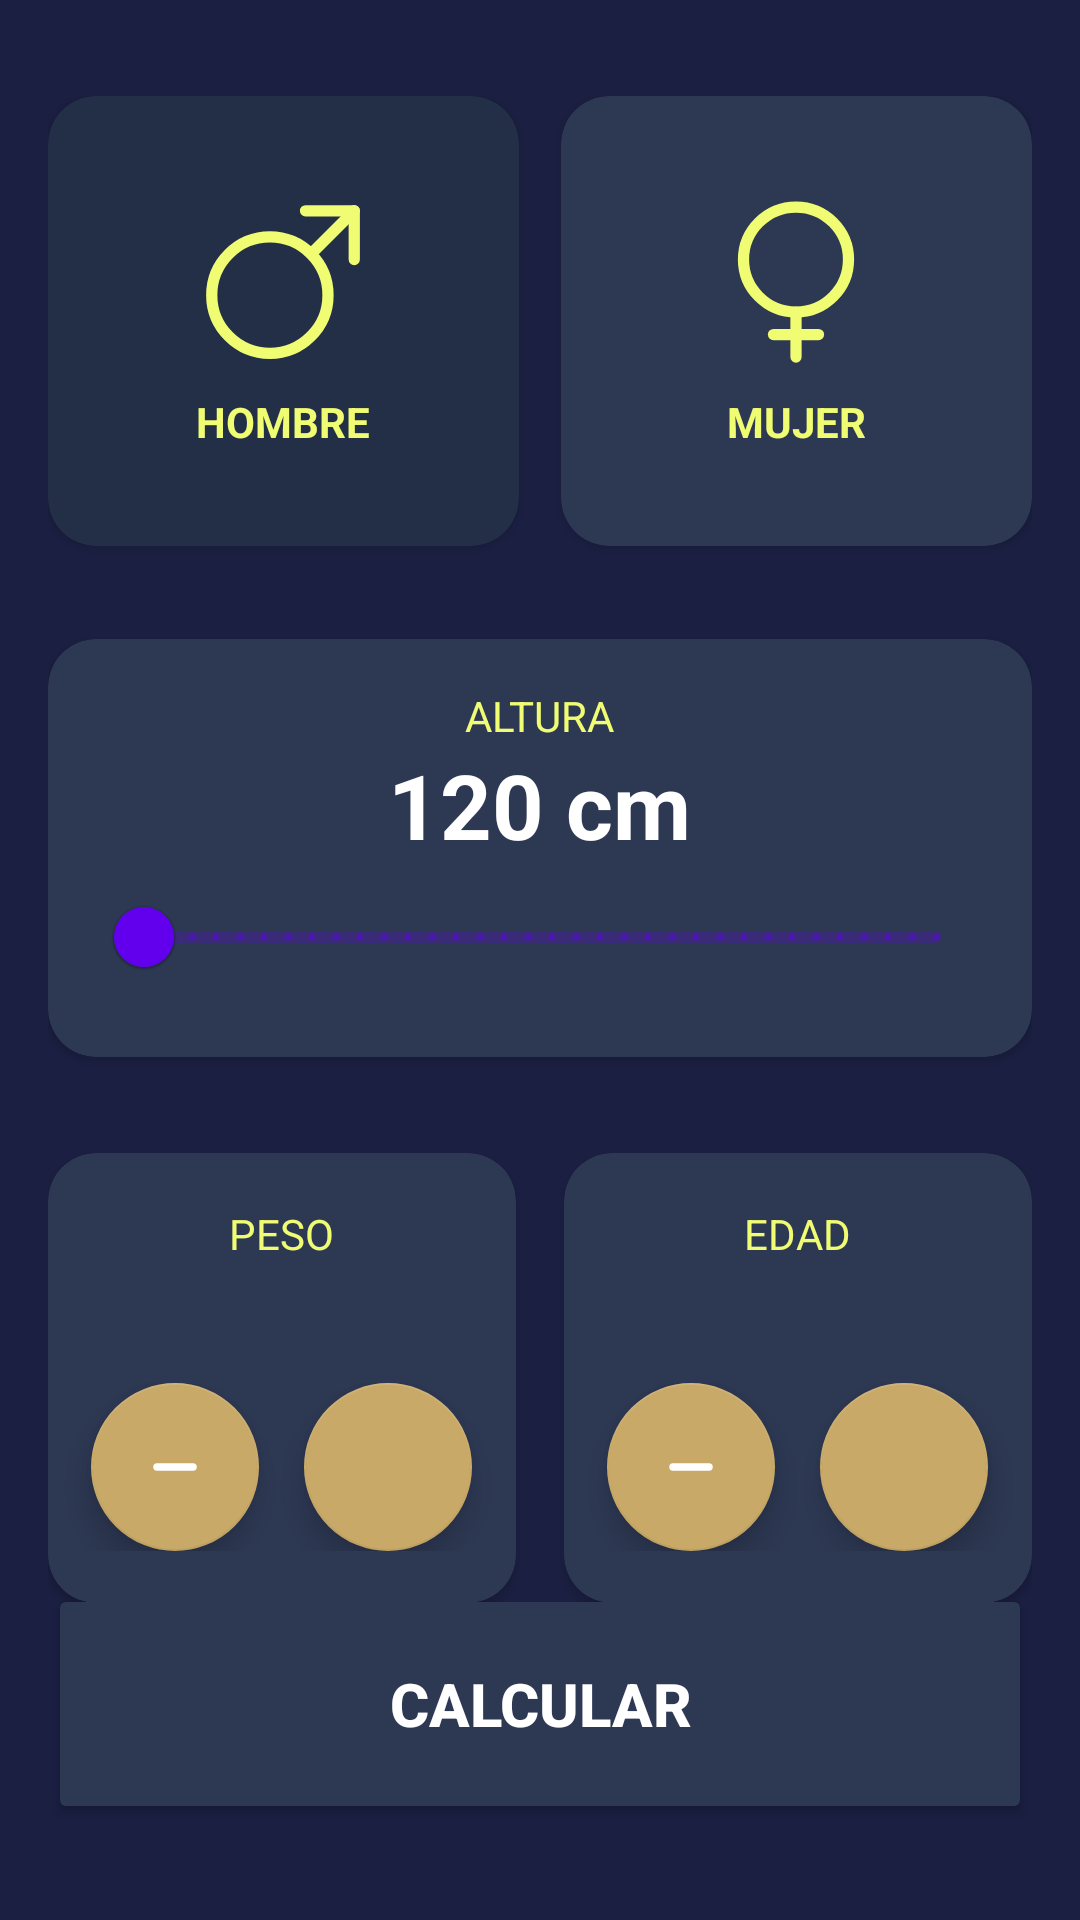

Icons on this 1080px×1920px Android screen, each with its box as Rect(x1, y1, x2, y2):
iconresta: Rect(91, 1383, 259, 1551), Rect(607, 1383, 775, 1551)
